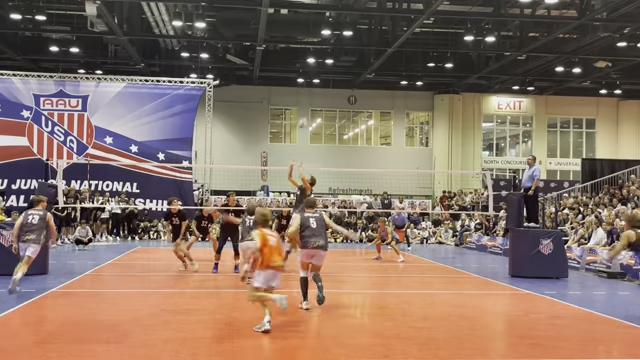alzata: (285, 158, 318, 241)
